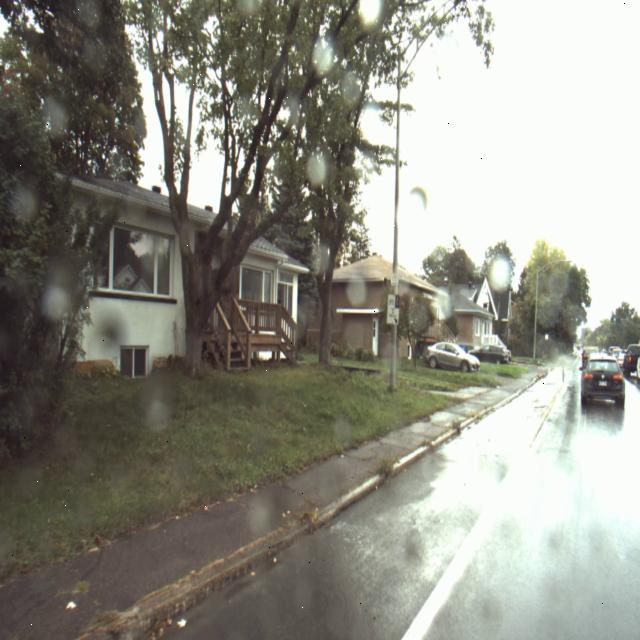car: (581, 355, 625, 410), (426, 340, 481, 370), (470, 345, 506, 364)
